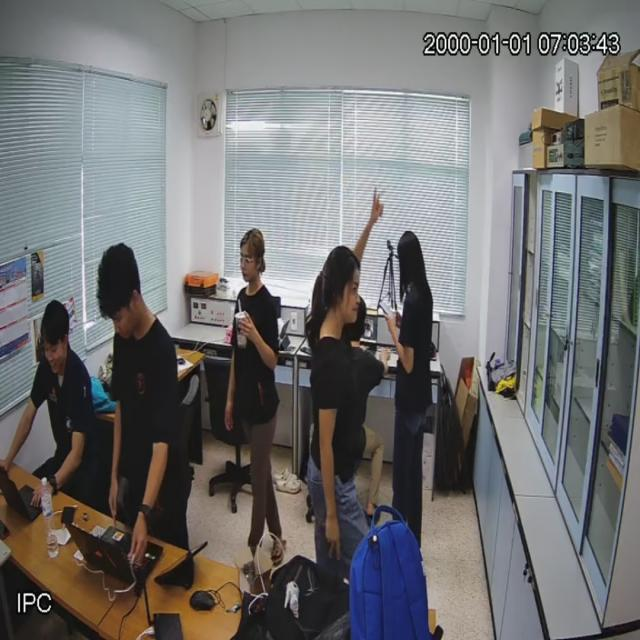normal: (107, 247, 180, 542), (226, 226, 284, 564), (308, 244, 368, 555), (12, 304, 96, 498), (390, 228, 434, 534)
